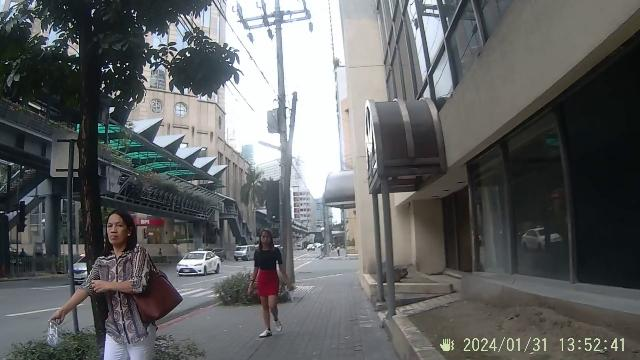tree: (58, 4, 140, 360)
utility_post: (235, 3, 329, 337)
